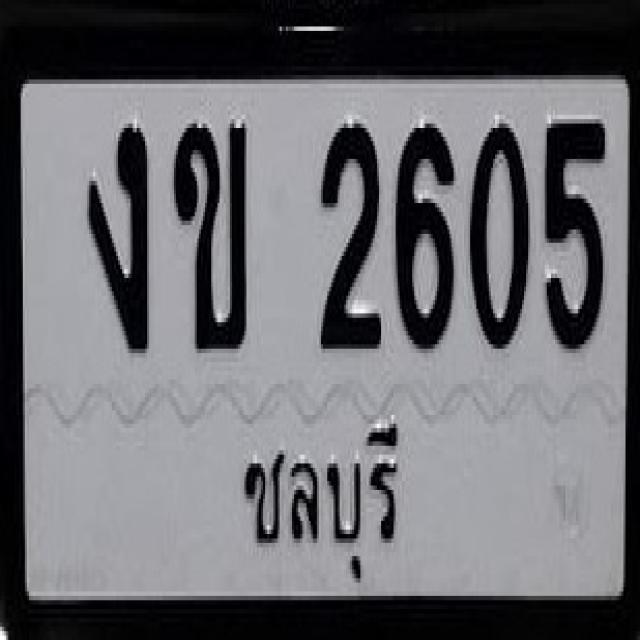license_plate: (4, 39, 640, 626)
